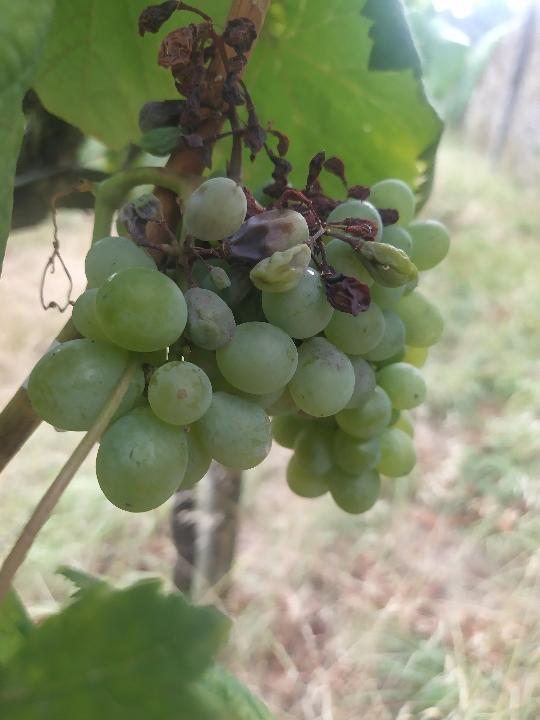grape: (21, 0, 455, 519)
